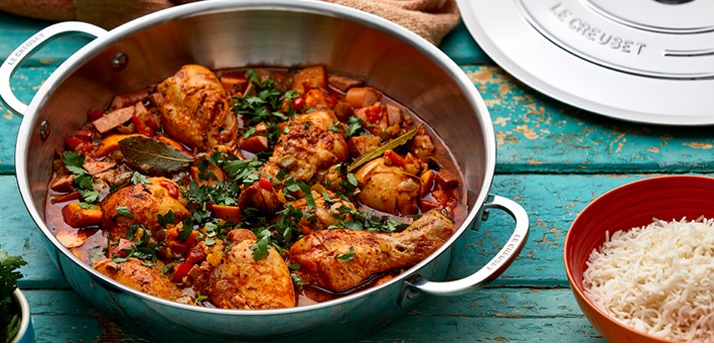feuilles vetes: (190, 181, 236, 203)
poulet: (300, 234, 419, 264)
saucisse: (89, 91, 155, 134)
